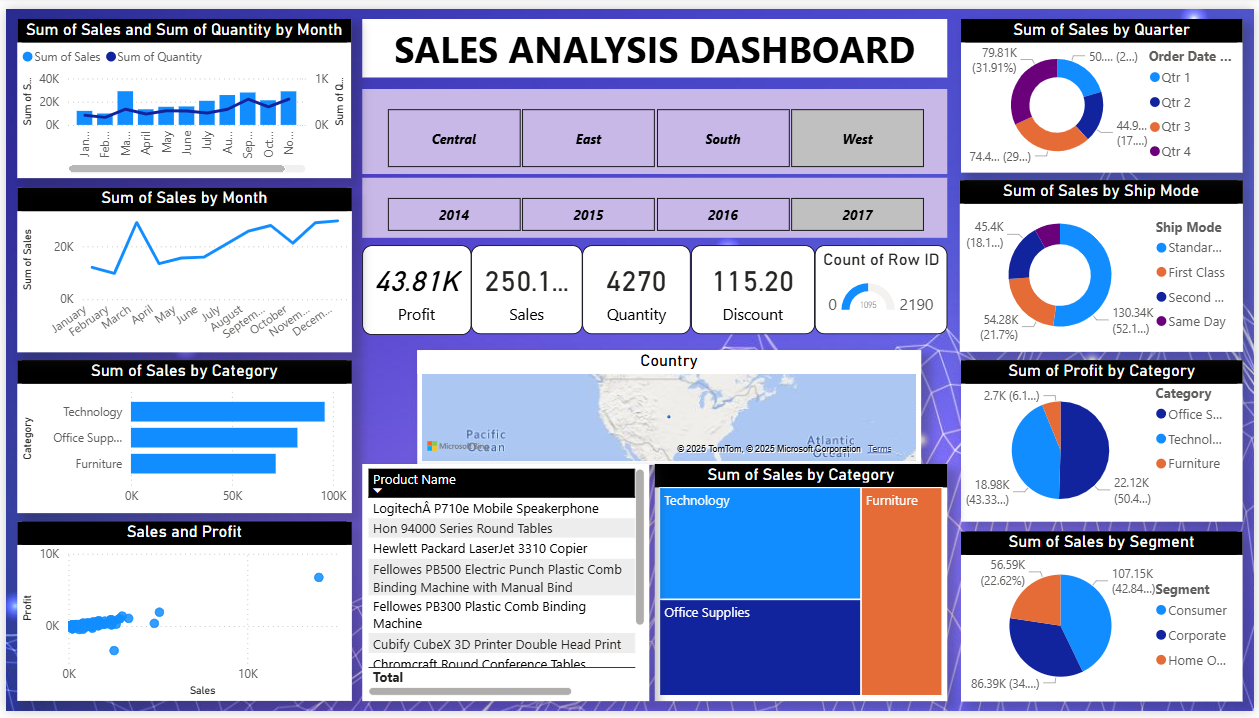

What the dashboard file says about the page in this screenshot:
{"tool":"powerbi","page":{"name":"Page 1","canvas":[1280,720],"ordinal":0},"visuals":[{"type":"slicer","fields":{"Values":["sample_-_superstore xls - Order.Region"]},"box":[365.7,81.4,600,87.1],"z":0},{"type":"textbox","box":[365.4,10.3,600,60.3],"z":1000},{"type":"card","fields":{"Values":["Sum(sample_-_superstore xls - Order.Profit)"]},"box":[365.6,242.9,111.7,92],"z":2000},{"type":"card","fields":{"Values":["Sum(sample_-_superstore xls - Order.Sales)"]},"box":[477.1,242.9,114.3,91.4],"z":3000},{"type":"card","fields":{"Values":["Sum(sample_-_superstore xls - Order.Quantity)"]},"box":[591.4,242.9,111.4,91.4],"z":4000},{"type":"card","fields":{"Values":["Sum(sample_-_superstore xls - Order.Discount)"]},"box":[702.9,242.9,127.1,91.4],"z":5000},{"type":"gauge","fields":{"Y":["CountNonNull(sample_-_superstore xls - Order.Row ID)"]},"box":[830,242.9,135.7,91.4],"z":6000},{"type":"slicer","fields":{"Values":["sample_-_superstore xls - Order.Order Date.Variation.Date Hierarchy.Year"]},"box":[365.7,172.9,600,61.4],"z":7000},{"type":"barChart","fields":{"Category":["sample_-_superstore xls - Order.Category"],"Y":["Sum(sample_-_superstore xls - Order.Sales)"]},"box":[11.4,360,342.9,157.1],"z":8000},{"type":"lineChart","fields":{"Y":["Sum(sample_-_superstore xls - Order.Sales)"],"Category":["sample_-_superstore xls - Order.Order Date.Variation.Date Hierarchy.Month"]},"box":[11.4,182.9,342.9,168.6],"z":9000},{"type":"scatterChart","fields":{"X":["sample_-_superstore xls - Order.Sales"],"Y":["sample_-_superstore xls - Order.Profit"]},"box":[11.4,525.7,342.9,184.3],"z":10000},{"type":"pieChart","fields":{"Category":["sample_-_superstore xls - Order.Category"],"Y":["Sum(sample_-_superstore xls - Order.Profit)"]},"box":[980,360,288.6,165.7],"z":11000},{"type":"map","fields":{"Category":["sample_-_superstore xls - Order.Country"]},"box":[422.1,349.7,516.6,117.8],"z":12000},{"type":"treemap","fields":{"Values":["Sum(sample_-_superstore xls - Order.Sales)"],"Group":["sample_-_superstore xls - Order.Category"]},"box":[665.7,467.1,300,242.9],"z":13000},{"type":"lineClusteredColumnComboChart","fields":{"Category":["sample_-_superstore xls - Order.Order Date.Variation.Date Hierarchy.Month"],"Y":["Sum(sample_-_superstore xls - Order.Sales)"],"Y2":["Sum(sample_-_superstore xls - Order.Quantity)"]},"box":[11.5,10.3,342.3,162.8],"z":14000},{"type":"tableEx","fields":{"Values":["sample_-_superstore xls - Order.Product Name","Sum(sample_-_superstore xls - Order.Sales)"]},"box":[365.7,467.1,294.3,242.9],"z":15000},{"type":"donutChart","fields":{"Category":["sample_-_superstore xls - Order.Ship Mode"],"Y":["Sum(sample_-_superstore xls - Order.Sales)"]},"box":[978.6,175.7,290,175.7],"z":16000},{"type":"pieChart","fields":{"Category":["sample_-_superstore xls - Order.Segment"],"Y":["Sum(sample_-_superstore xls - Order.Sales)"]},"box":[979.5,535.9,288.5,174.4],"z":17000},{"type":"donutChart","fields":{"Category":["sample_-_superstore xls - Order.Order Date.Variation.Date Hierarchy.Quarter"],"Y":["Sum(sample_-_superstore xls - Order.Sales)"]},"box":[979.5,10.3,288.5,157.7],"z":18000}]}

Visuals, with their boxes in screenshot pixels (x1, y1, x2, y2), scaled from the page's 1280x720 canvas onto the 1259x718 screenshot:
slicer - sample_-_superstore xls - Order.Region: BBox(360, 81, 950, 168)
textbox: BBox(359, 10, 950, 70)
card - Sum(sample_-_superstore xls - Order.Profit): BBox(360, 242, 469, 334)
card - Sum(sample_-_superstore xls - Order.Sales): BBox(469, 242, 582, 333)
card - Sum(sample_-_superstore xls - Order.Quantity): BBox(582, 242, 691, 333)
card - Sum(sample_-_superstore xls - Order.Discount): BBox(691, 242, 816, 333)
gauge - CountNonNull(sample_-_superstore xls - Order.Row ID): BBox(816, 242, 950, 333)
slicer - sample_-_superstore xls - Order.Order Date.Variation.Date Hierarchy.Year: BBox(360, 172, 950, 234)
barChart - sample_-_superstore xls - Order.Category x Sum(sample_-_superstore xls - Order.Sales): BBox(11, 359, 348, 516)
lineChart - Sum(sample_-_superstore xls - Order.Sales) x sample_-_superstore xls - Order.Order Date.Variation.Date Hierarchy.Month: BBox(11, 182, 348, 351)
scatterChart - sample_-_superstore xls - Order.Sales x sample_-_superstore xls - Order.Profit: BBox(11, 524, 348, 708)
pieChart - sample_-_superstore xls - Order.Category x Sum(sample_-_superstore xls - Order.Profit): BBox(964, 359, 1248, 524)
map - sample_-_superstore xls - Order.Country: BBox(415, 349, 923, 466)
treemap - Sum(sample_-_superstore xls - Order.Sales) x sample_-_superstore xls - Order.Category: BBox(655, 466, 950, 708)
lineClusteredColumnComboChart - sample_-_superstore xls - Order.Order Date.Variation.Date Hierarchy.Month x Sum(sample_-_superstore xls - Order.Sales): BBox(11, 10, 348, 173)
tableEx - sample_-_superstore xls - Order.Product Name x Sum(sample_-_superstore xls - Order.Sales): BBox(360, 466, 649, 708)
donutChart - sample_-_superstore xls - Order.Ship Mode x Sum(sample_-_superstore xls - Order.Sales): BBox(963, 175, 1248, 350)
pieChart - sample_-_superstore xls - Order.Segment x Sum(sample_-_superstore xls - Order.Sales): BBox(963, 534, 1247, 708)
donutChart - sample_-_superstore xls - Order.Order Date.Variation.Date Hierarchy.Quarter x Sum(sample_-_superstore xls - Order.Sales): BBox(963, 10, 1247, 168)
